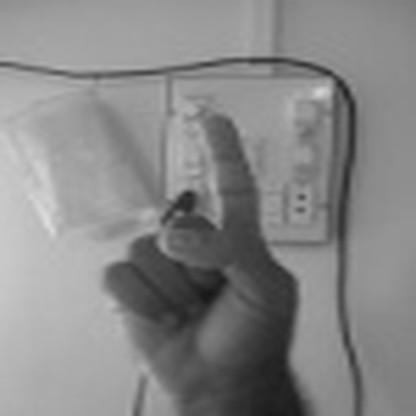d: (101, 115, 303, 395)
